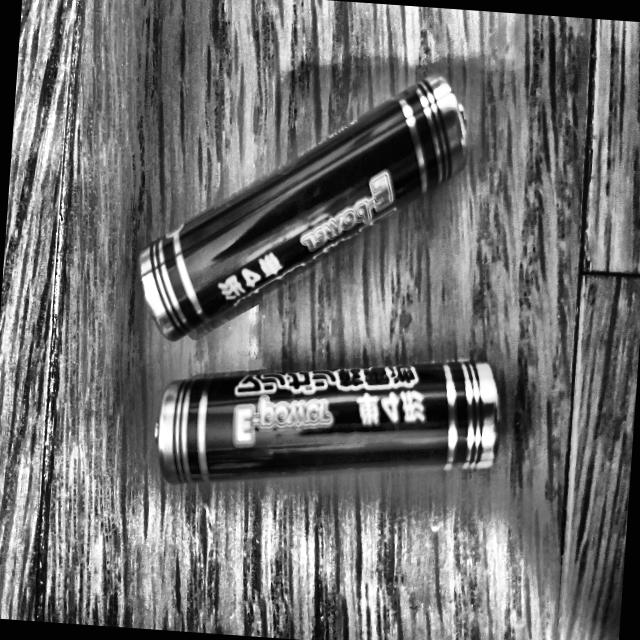drycell: (124, 41, 482, 364), (144, 324, 516, 516)
